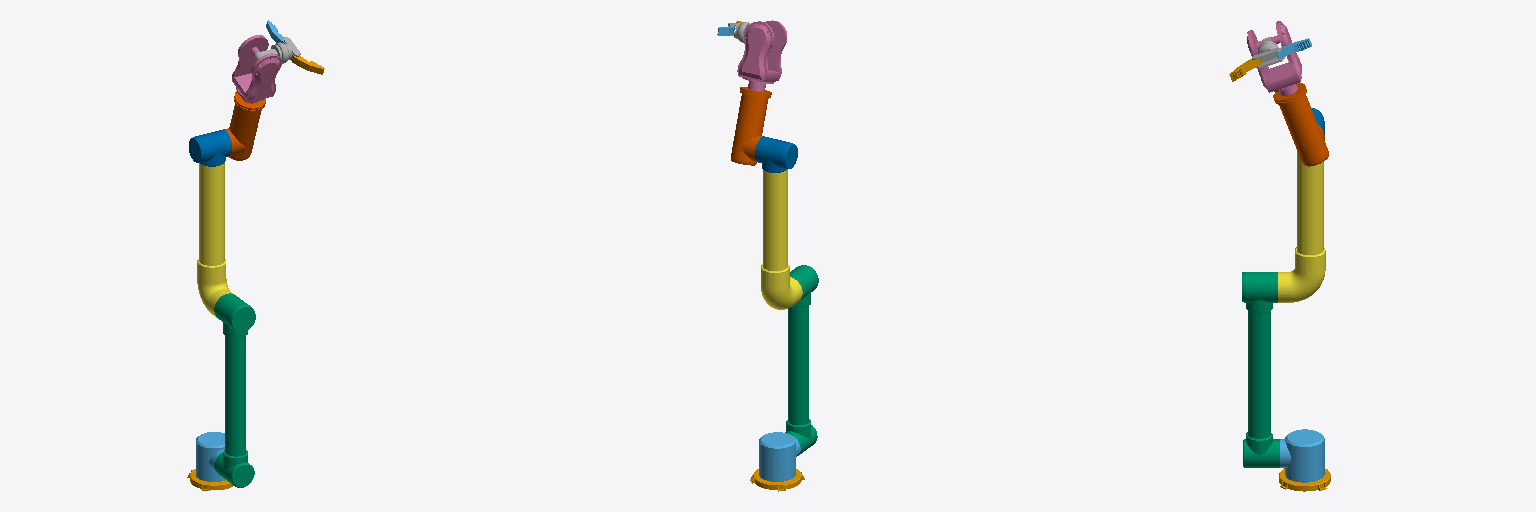
The robot description file, URDF, robot "Robot_GA":
<?xml version="1.0" ?>
<robot name="Robot_GA">

<material name="silver">
  <color rgba="0.700 0.700 0.700 1.000"/>
</material>

<link name="base_link">
  <inertial>
    <origin xyz="-0.07682075088882986 0.11061210181185127 0.14272719812799045" rpy="0 0 0"/>
    <mass value="12.322730126500291"/>
    <inertia ixx="0.048666838915268906" iyy="0.04866683891526946" izz="0.09523953557198009" ixy="-1.3183898417423734e-15" iyz="5.551115123125783e-17" ixz="5.551115123125783e-17"/>
  </inertial>
  <visual>
    <origin xyz="0 0 0" rpy="0 0 0"/>
    <geometry>
      <mesh filename="meshes/base_link.stl" scale="0.001 0.001 0.001"/>
    </geometry>
    <material name="silver"/>
    <material/>
  </visual>
  <collision>
    <origin xyz="0 0 0" rpy="0 0 0"/>
    <geometry>
      <mesh filename="meshes/base_link.stl" scale="0.001 0.001 0.001"/>
    </geometry>
  </collision>
</link>

<link name="Link_11111111">
  <inertial>
    <origin xyz="2.4544070235943405e-07 -0.007900865973038823 0.10039460073341469" rpy="0 0 0"/>
    <mass value="47.95173098521581"/>
    <inertia ixx="0.28677254202160807" iyy="0.25542071508189546" izz="0.24079672853407497" ixy="-8.706012355474968e-09" iyz="0.0040681515590308415" ixz="-4.902126149453068e-09"/>
  </inertial>
  <visual>
    <origin xyz="0.076821 -0.110612 -0.159998" rpy="0 0 0"/>
    <geometry>
      <mesh filename="meshes/Link_11111111.stl" scale="0.001 0.001 0.001"/>
    </geometry>
    <material name="silver"/>
    <material/>
  </visual>
  <collision>
    <origin xyz="0.076821 -0.110612 -0.159998" rpy="0 0 0"/>
    <geometry>
      <mesh filename="meshes/Link_11111111.stl" scale="0.001 0.001 0.001"/>
    </geometry>
  </collision>
</link>

<link name="Link_21111111">
  <inertial>
    <origin xyz="2.4272803450520186e-07 -0.0972877109058419 0.45517511911889685" rpy="0 0 0"/>
    <mass value="104.14884085364247"/>
    <inertia ixx="12.08250919008676" iyy="12.024749075241402" izz="0.273022245292601" ixy="-4.5538451898252674e-09" iyz="0.06571989249764698" ixz="5.046451949652919e-07"/>
  </inertial>
  <visual>
    <origin xyz="0.076821 0.009388 -0.27113" rpy="0 0 0"/>
    <geometry>
      <mesh filename="meshes/Link_21111111.stl" scale="0.001 0.001 0.001"/>
    </geometry>
    <material name="silver"/>
    <material/>
  </visual>
  <collision>
    <origin xyz="0.076821 0.009388 -0.27113" rpy="0 0 0"/>
    <geometry>
      <mesh filename="meshes/Link_21111111.stl" scale="0.001 0.001 0.001"/>
    </geometry>
  </collision>
</link>

<link name="Link_31111111">
  <inertial>
    <origin xyz="2.4911116909553943e-07 0.13955146017807843 0.3019425180292534" rpy="0 0 0"/>
    <mass value="101.5958850714573"/>
    <inertia ixx="6.334119311499023" iyy="6.217424963929034" izz="0.3614722230840042" ixy="6.661338147750939e-16" iyz="-0.4738378888982808" ixz="7.105427357601002e-15"/>
  </inertial>
  <visual>
    <origin xyz="0.076821 0.019388 -1.156998" rpy="0 0 0"/>
    <geometry>
      <mesh filename="meshes/Link_31111111.stl" scale="0.001 0.001 0.001"/>
    </geometry>
    <material name="silver"/>
    <material/>
  </visual>
  <collision>
    <origin xyz="0.076821 0.019388 -1.156998" rpy="0 0 0"/>
    <geometry>
      <mesh filename="meshes/Link_31111111.stl" scale="0.001 0.001 0.001"/>
    </geometry>
  </collision>
</link>

<link name="Link_41111111">
  <inertial>
    <origin xyz="-0.008352446235179084 1.0181185400304216e-07 0.0764510114161745" rpy="0 0 0"/>
    <mass value="24.680512045723788"/>
    <inertia ixx="0.07143306242014091" iyy="0.10082953958935548" izz="0.09301813305238804" ixy="1.1102230246251565e-16" iyz="0.0" ixz="0.0017622767706919618"/>
  </inertial>
  <visual>
    <origin xyz="0.076821 -0.135612 -1.916998" rpy="0 0 0"/>
    <geometry>
      <mesh filename="meshes/Link_41111111.stl" scale="0.001 0.001 0.001"/>
    </geometry>
    <material name="silver"/>
    <material/>
  </visual>
  <collision>
    <origin xyz="0.076821 -0.135612 -1.916998" rpy="0 0 0"/>
    <geometry>
      <mesh filename="meshes/Link_41111111.stl" scale="0.001 0.001 0.001"/>
    </geometry>
  </collision>
</link>

<link name="Link_51111111">
  <inertial>
    <origin xyz="0.08489549306491614 -0.029515773666199632 0.08109378386540111" rpy="0 0 0"/>
    <mass value="47.42171634651961"/>
    <inertia ixx="0.6060335471427436" iyy="0.5628125456807709" izz="0.19671759234049702" ixy="0.00811462488078385" iyz="0.15359508425238566" ixz="-0.02229474978649648"/>
  </inertial>
  <visual>
    <origin xyz="-0.003179 -0.135612 -2.001998" rpy="0 0 0"/>
    <geometry>
      <mesh filename="meshes/Link_51111111.stl" scale="0.001 0.001 0.001"/>
    </geometry>
    <material name="silver"/>
    <material/>
  </visual>
  <collision>
    <origin xyz="-0.003179 -0.135612 -2.001998" rpy="0 0 0"/>
    <geometry>
      <mesh filename="meshes/Link_51111111.stl" scale="0.001 0.001 0.001"/>
    </geometry>
  </collision>
</link>

<link name="Link_61111111">
  <inertial>
    <origin xyz="-0.0002009993404699234 -0.053946335073602296 0.14843006663275604" rpy="0 0 0"/>
    <mass value="33.792943335455206"/>
    <inertia ixx="0.45074487374986916" iyy="0.34580875400706645" izz="0.21821310663125332" ixy="-0.0001076917257439719" iyz="0.053143399286648796" ixz="0.000295578924457196"/>
  </inertial>
  <visual>
    <origin xyz="-0.093872 -0.034716 -2.279207" rpy="0 0 0"/>
    <geometry>
      <mesh filename="meshes/Link_61111111.stl" scale="0.001 0.001 0.001"/>
    </geometry>
    <material name="silver"/>
    <material/>
  </visual>
  <collision>
    <origin xyz="-0.093872 -0.034716 -2.279207" rpy="0 0 0"/>
    <geometry>
      <mesh filename="meshes/Link_61111111.stl" scale="0.001 0.001 0.001"/>
    </geometry>
  </collision>
</link>

<link name="Link_71111111">
  <inertial>
    <origin xyz="0.11377398607759472 -0.0009945493521132248 6.190058636734719e-05" rpy="0 0 0"/>
    <mass value="6.9280302782204"/>
    <inertia ixx="0.008202698664653951" iyy="0.02034163642680653" izz="0.02094285570918153" ixy="9.314145401870255e-05" iyz="-0.00023894440176053244" ixz="-0.0001649610630103382"/>
  </inertial>
  <visual>
    <origin xyz="-0.093712 0.063008 -2.540391" rpy="0 0 0"/>
    <geometry>
      <mesh filename="meshes/Link_71111111.stl" scale="0.001 0.001 0.001"/>
    </geometry>
    <material name="silver"/>
    <material/>
  </visual>
  <collision>
    <origin xyz="-0.093712 0.063008 -2.540391" rpy="0 0 0"/>
    <geometry>
      <mesh filename="meshes/Link_71111111.stl" scale="0.001 0.001 0.001"/>
    </geometry>
  </collision>
</link>

<link name="Grper_21">
  <inertial>
    <origin xyz="0.03654290800794985 -0.059222042668440195 -0.021911740027011906" rpy="0 0 0"/>
    <mass value="1.4743017552778996"/>
    <inertia ixx="0.0024979853784792283" iyy="0.0016692314826052268" izz="0.003321923208977562" ixy="0.0014708568572210368" iyz="-0.000652729563968113" ixz="0.0005161674649727388"/>
  </inertial>
  <visual>
    <origin xyz="-0.269855 0.117834 -2.522906" rpy="0 0 0"/>
    <geometry>
      <mesh filename="meshes/Grper_21.stl" scale="0.001 0.001 0.001"/>
    </geometry>
    <material name="silver"/>
    <material/>
  </visual>
  <collision>
    <origin xyz="-0.269855 0.117834 -2.522906" rpy="0 0 0"/>
    <geometry>
      <mesh filename="meshes/Grper_21.stl" scale="0.001 0.001 0.001"/>
    </geometry>
  </collision>
</link>

<link name="Gripper_11">
  <inertial>
    <origin xyz="-0.012595283461049767 0.06741250797329672 0.024892023045834932" rpy="0 0 0"/>
    <mass value="1.4743017552778996"/>
    <inertia ixx="0.0035971009854343095" iyy="0.000695924635421008" izz="0.0031961144492042848" ixy="0.00023593727468170303" iyz="-0.0010026852878826653" ixz="7.92629223428376e-05"/>
  </inertial>
  <visual>
    <origin xyz="-0.269855 0.014467 -2.560528" rpy="0 0 0"/>
    <geometry>
      <mesh filename="meshes/Gripper_11.stl" scale="0.001 0.001 0.001"/>
    </geometry>
    <material name="silver"/>
    <material/>
  </visual>
  <collision>
    <origin xyz="-0.269855 0.014467 -2.560528" rpy="0 0 0"/>
    <geometry>
      <mesh filename="meshes/Gripper_11.stl" scale="0.001 0.001 0.001"/>
    </geometry>
  </collision>
</link>

<joint name="Revolute_58" type="continuous">
  <origin xyz="-0.076821 0.110612 0.159998" rpy="0 0 0"/>
  <parent link="base_link"/>
  <child link="Link_11111111"/>
  <axis xyz="0.0 -0.0 1.0"/>
</joint>
<transmission name="Revolute_58_tran">
  <type>transmission_interface/SimpleTransmission</type>
  <joint name="Revolute_58">
    <hardwareInterface>PositionJointInterface</hardwareInterface>
  </joint>
  <actuator name="Revolute_58_actr">
    <hardwareInterface>PositionJointInterface</hardwareInterface>
    <mechanicalReduction>1</mechanicalReduction>
  </actuator>
</transmission>

<joint name="Revolute_59" type="revolute">
  <origin xyz="0.0 -0.12 0.111132" rpy="0 0 0"/>
  <parent link="Link_11111111"/>
  <child link="Link_21111111"/>
  <axis xyz="0.0 -1.0 -0.0"/>
  <limit upper="1.570796" lower="-1.570796" effort="100" velocity="100"/>
</joint>
<transmission name="Revolute_59_tran">
  <type>transmission_interface/SimpleTransmission</type>
  <joint name="Revolute_59">
    <hardwareInterface>PositionJointInterface</hardwareInterface>
  </joint>
  <actuator name="Revolute_59_actr">
    <hardwareInterface>PositionJointInterface</hardwareInterface>
    <mechanicalReduction>1</mechanicalReduction>
  </actuator>
</transmission>

<joint name="Revolute_60" type="continuous">
  <origin xyz="0.0 -0.01 0.885868" rpy="0 0 0"/>
  <parent link="Link_21111111"/>
  <child link="Link_31111111"/>
  <axis xyz="-0.0 1.0 0.0"/>
</joint>
<transmission name="Revolute_60_tran">
  <type>transmission_interface/SimpleTransmission</type>
  <joint name="Revolute_60">
    <hardwareInterface>PositionJointInterface</hardwareInterface>
  </joint>
  <actuator name="Revolute_60_actr">
    <hardwareInterface>PositionJointInterface</hardwareInterface>
    <mechanicalReduction>1</mechanicalReduction>
  </actuator>
</transmission>

<joint name="Revolute_61" type="continuous">
  <origin xyz="0.0 0.155 0.76" rpy="0 0 0"/>
  <parent link="Link_31111111"/>
  <child link="Link_41111111"/>
  <axis xyz="-0.0 -0.0 1.0"/>
</joint>
<transmission name="Revolute_61_tran">
  <type>transmission_interface/SimpleTransmission</type>
  <joint name="Revolute_61">
    <hardwareInterface>PositionJointInterface</hardwareInterface>
  </joint>
  <actuator name="Revolute_61_actr">
    <hardwareInterface>PositionJointInterface</hardwareInterface>
    <mechanicalReduction>1</mechanicalReduction>
  </actuator>
</transmission>

<joint name="Revolute_62" type="continuous">
  <origin xyz="0.08 0.0 0.085" rpy="0 0 0"/>
  <parent link="Link_41111111"/>
  <child link="Link_51111111"/>
  <axis xyz="1.0 -0.0 0.0"/>
</joint>
<transmission name="Revolute_62_tran">
  <type>transmission_interface/SimpleTransmission</type>
  <joint name="Revolute_62">
    <hardwareInterface>PositionJointInterface</hardwareInterface>
  </joint>
  <actuator name="Revolute_62_actr">
    <hardwareInterface>PositionJointInterface</hardwareInterface>
    <mechanicalReduction>1</mechanicalReduction>
  </actuator>
</transmission>

<joint name="Revolute_63" type="continuous">
  <origin xyz="0.090693 -0.100896 0.277209" rpy="0 0 0"/>
  <parent link="Link_51111111"/>
  <child link="Link_61111111"/>
  <axis xyz="0.0 0.34202 -0.939693"/>
</joint>
<transmission name="Revolute_63_tran">
  <type>transmission_interface/SimpleTransmission</type>
  <joint name="Revolute_63">
    <hardwareInterface>PositionJointInterface</hardwareInterface>
  </joint>
  <actuator name="Revolute_63_actr">
    <hardwareInterface>PositionJointInterface</hardwareInterface>
    <mechanicalReduction>1</mechanicalReduction>
  </actuator>
</transmission>

<joint name="Revolute_64" type="continuous">
  <origin xyz="-0.00016 -0.097724 0.261184" rpy="0 0 0"/>
  <parent link="Link_61111111"/>
  <child link="Link_71111111"/>
  <axis xyz="0.0 -0.939693 -0.34202"/>
</joint>
<transmission name="Revolute_64_tran">
  <type>transmission_interface/SimpleTransmission</type>
  <joint name="Revolute_64">
    <hardwareInterface>PositionJointInterface</hardwareInterface>
  </joint>
  <actuator name="Revolute_64_actr">
    <hardwareInterface>PositionJointInterface</hardwareInterface>
    <mechanicalReduction>1</mechanicalReduction>
  </actuator>
</transmission>

<joint name="Revolute_75" type="continuous">
  <origin xyz="0.176143 -0.054826 -0.017485" rpy="0 0 0"/>
  <parent link="Link_71111111"/>
  <child link="Grper_21"/>
  <axis xyz="-0.0 0.34202 -0.939693"/>
</joint>
<transmission name="Revolute_75_tran">
  <type>transmission_interface/SimpleTransmission</type>
  <joint name="Revolute_75">
    <hardwareInterface>PositionJointInterface</hardwareInterface>
  </joint>
  <actuator name="Revolute_75_actr">
    <hardwareInterface>PositionJointInterface</hardwareInterface>
    <mechanicalReduction>1</mechanicalReduction>
  </actuator>
</transmission>

<joint name="Revolute_76" type="continuous">
  <origin xyz="0.176143 0.048541 0.020137" rpy="0 0 0"/>
  <parent link="Link_71111111"/>
  <child link="Gripper_11"/>
  <axis xyz="-0.0 0.34202 -0.939693"/>
</joint>
<transmission name="Revolute_76_tran">
  <type>transmission_interface/SimpleTransmission</type>
  <joint name="Revolute_76">
    <hardwareInterface>PositionJointInterface</hardwareInterface>
  </joint>
  <actuator name="Revolute_76_actr">
    <hardwareInterface>PositionJointInterface</hardwareInterface>
    <mechanicalReduction>1</mechanicalReduction>
  </actuator>
</transmission>

</robot>

--- Render facts (derived) ---
Views: 3 orthographic renders of the robot side by side, from view 1: azimuth 30°, elevation 25°; view 2: azimuth 150°, elevation 25°; view 3: azimuth 270°, elevation 25°.
Robot: Robot_GA — 10 links, 9 joints (1 revolute, 8 continuous); root link base_link; default pose: every joint at zero.
Visible links, largest first — view 1: Link_21111111, Link_31111111, Link_61111111, Link_51111111, Link_41111111, Link_11111111; view 2: Link_31111111, Link_21111111, Link_61111111, Link_51111111, Link_11111111, Link_41111111, base_link; view 3: Link_21111111, Link_31111111, Link_51111111, Link_11111111, Link_61111111, base_link.
Boxes of the visible links, x1,y1,x2,y2 form: Link_21111111: [214, 293, 255, 487]; Link_31111111: [197, 163, 234, 317]; Link_61111111: [232, 35, 281, 103]; Link_51111111: [223, 91, 265, 160]; Link_41111111: [189, 130, 231, 166]; Link_11111111: [196, 432, 225, 481]; Link_31111111: [761, 169, 802, 309]; Link_21111111: [785, 265, 818, 455]; Link_61111111: [737, 20, 786, 91]; Link_51111111: [731, 87, 771, 165]; Link_11111111: [759, 432, 800, 481]; Link_41111111: [755, 136, 797, 172]; base_link: [750, 469, 804, 491]; Link_21111111: [1242, 272, 1279, 467]; Link_31111111: [1278, 151, 1325, 302]; Link_51111111: [1273, 83, 1328, 166]; Link_11111111: [1280, 429, 1324, 482]; Link_61111111: [1247, 21, 1301, 95]; base_link: [1279, 468, 1330, 491].
Bounding box of the posed robot: 0.5697 × 0.4904 × 2.52 m (x, y, z).
10 mesh visuals loaded from 10 distinct referenced files (10 binary STL).